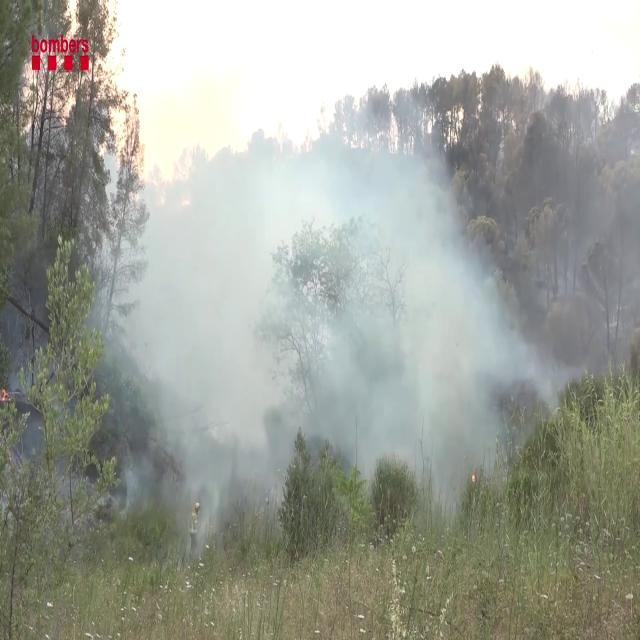Smoke: (88, 19, 542, 544)
